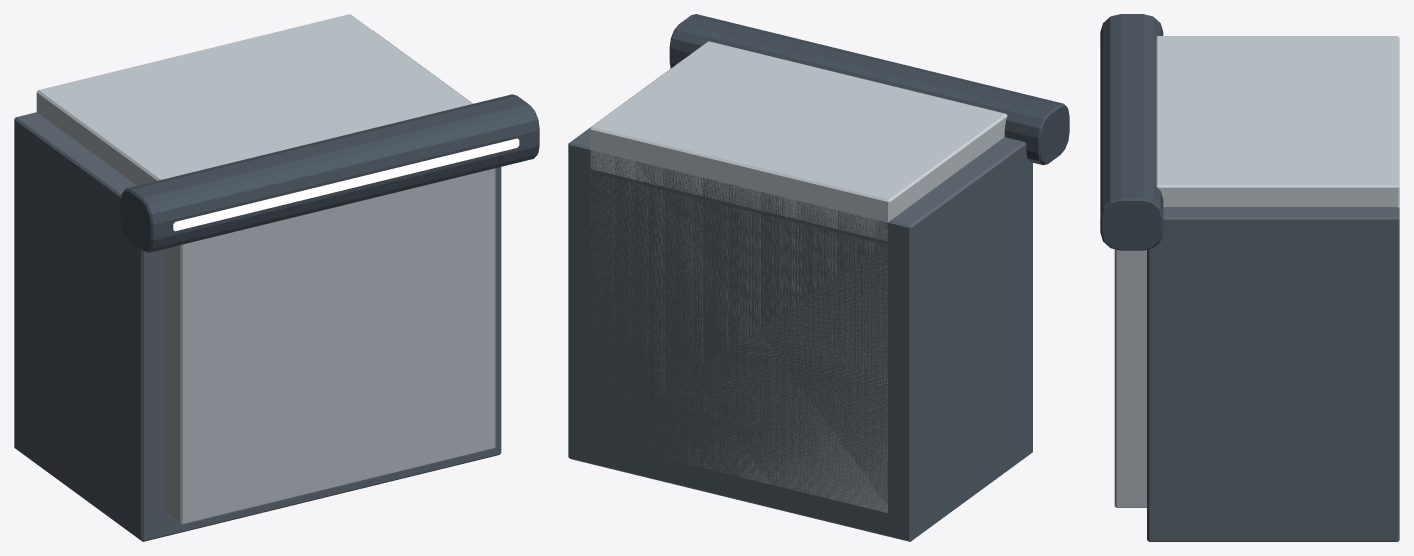
The model's file is Terrain_TopRun1LR.gltf.
The picture shows the model from 3 angles, left to right: view 1: azimuth 30°, elevation 25°; view 2: azimuth 150°, elevation 25°; view 3: azimuth 270°, elevation 25°; orthographic projection. The views are drawn at different scales.
Visible parts, largest first — view 1: Terrain_TopRun1LR_baked; view 2: Terrain_TopRun1LR_baked; view 3: Terrain_TopRun1LR_baked.
Boxes of the visible parts, x1,y1,x2,y2 form: Terrain_TopRun1LR_baked: (14, 14, 539, 541); Terrain_TopRun1LR_baked: (568, 14, 1069, 541); Terrain_TopRun1LR_baked: (1098, 14, 1399, 541).
Bounding box in the file's own units: 1.08 × 0.9495 × 0.74.
